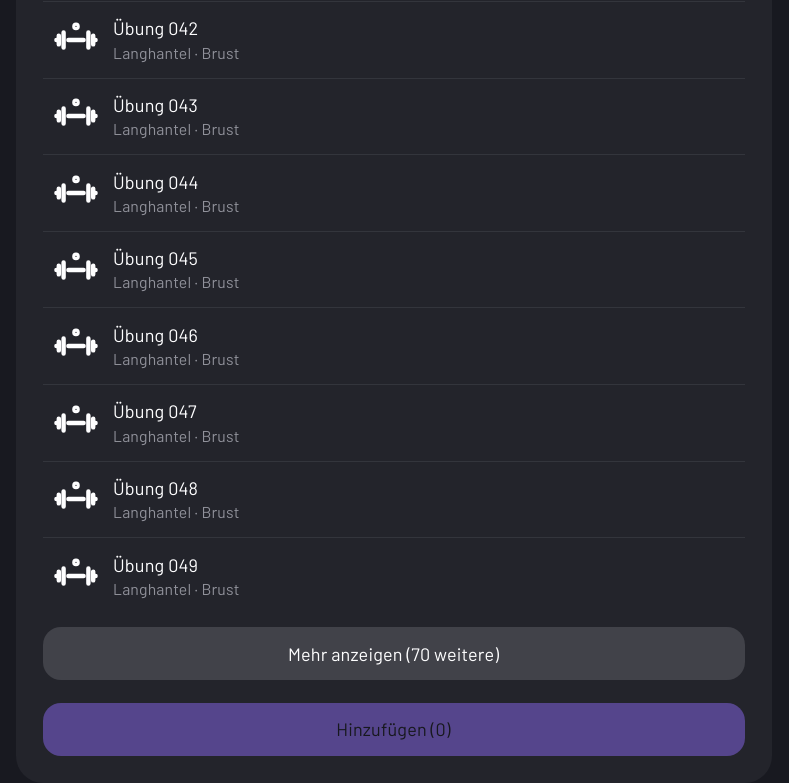
it: ExercisePicker › renders only the first 50 hits, shows the rest on demand, and still finds hits beyond them by search
(page scrolled)
Click the button "Mehr anzeigen (70 weitere)".
click(394, 654)  # box [42,627,744,680]
(page scrolled)
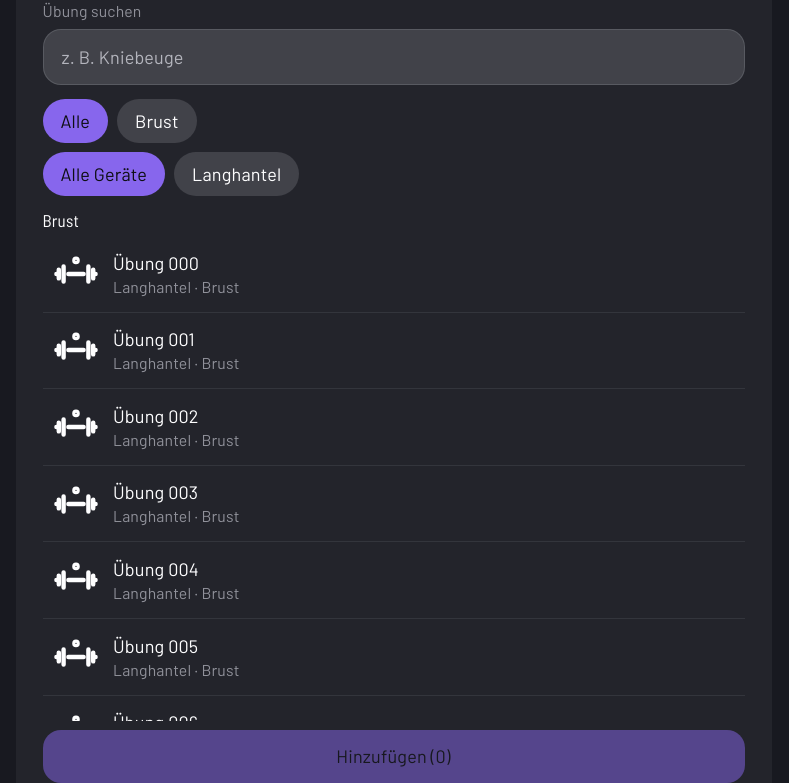
Check: the number of buttons "Übung 000 Langhantel · Brust" is 100
Type "Übung 119" into the field labelled "Übung suchen".
click(394, 57); type("Übung 119")  # box [42,29,744,85]
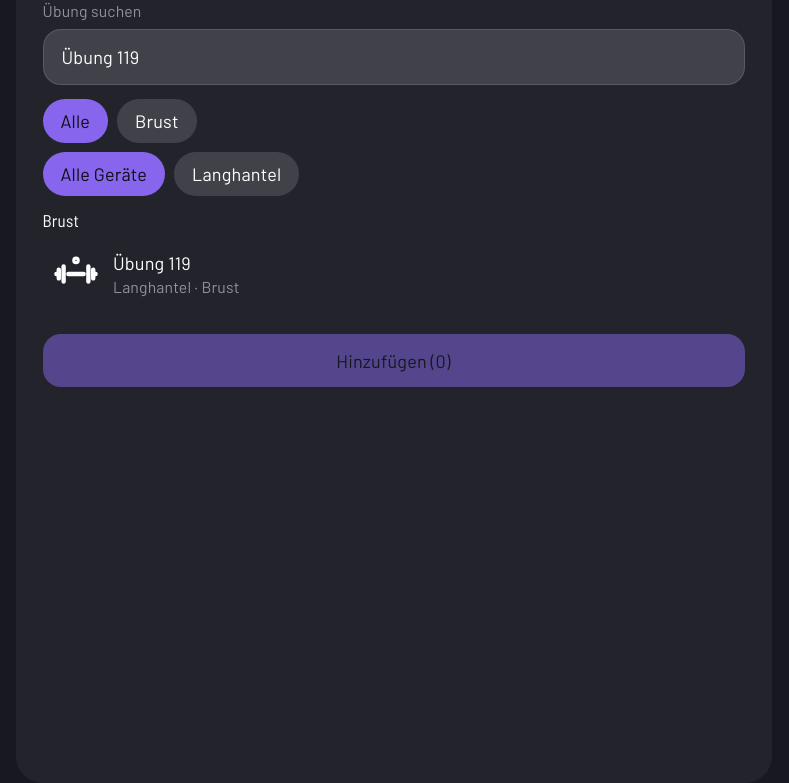
Check: the button "Mehr anzeigen" is not shown
Check: the number of buttons "Übung 119 Langhantel · Brust" is 1, box [42,236,744,312]
